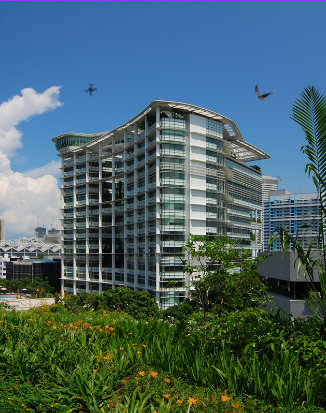drone_other: (84, 82, 99, 97)
